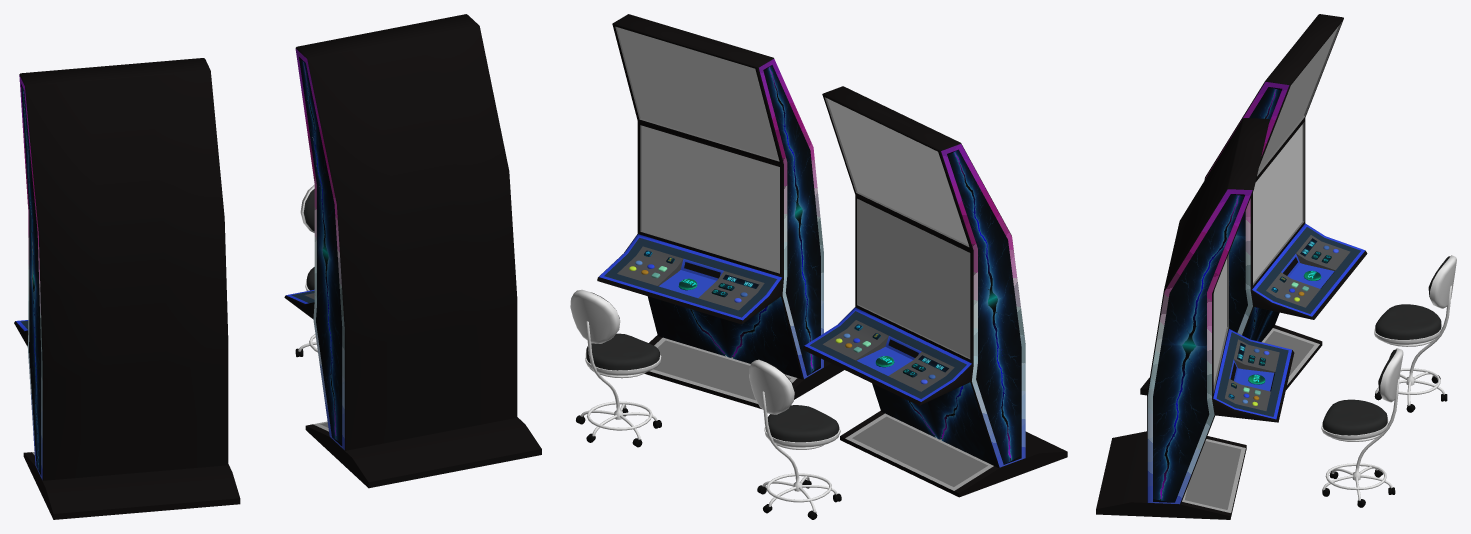
Rendered from slotAutomat2Pref.fbx.
3 views of the same model, side by side, from view 1: azimuth 30°, elevation 25°; view 2: azimuth 150°, elevation 25°; view 3: azimuth 270°, elevation 25° (orthographic). The views are drawn at different scales.
Parts seen in each view (by area): view 1: SlotMashine.005, SlotMashine.013, GameChair.028, SlotMashine.063; view 2: SlotMashine.013, SlotMashine.005, GameChair.028, GameChair.027, SlotMashine.064, SlotMashine.063; view 3: SlotMashine.013, SlotMashine.005, GameChair.028, GameChair.027, SlotMashine.063.
Part boxes in pixels (x1,y1,x2,y2): SlotMashine.005: (14, 58, 240, 519); SlotMashine.013: (284, 14, 541, 488); GameChair.028: (295, 184, 317, 357); SlotMashine.063: (303, 62, 336, 435); SlotMashine.013: (597, 14, 843, 408); SlotMashine.005: (802, 86, 1067, 497); GameChair.028: (570, 289, 661, 447); GameChair.027: (749, 359, 841, 519); SlotMashine.064: (909, 152, 1010, 457); SlotMashine.063: (690, 67, 812, 368); SlotMashine.013: (1096, 118, 1294, 519); SlotMashine.005: (1140, 14, 1367, 395); GameChair.028: (1321, 348, 1403, 507); GameChair.027: (1374, 255, 1456, 412); SlotMashine.063: (1157, 195, 1238, 498).
Bounding box in the file's own units: 343 × 272 × 268.
8 materials, 5 textured.
